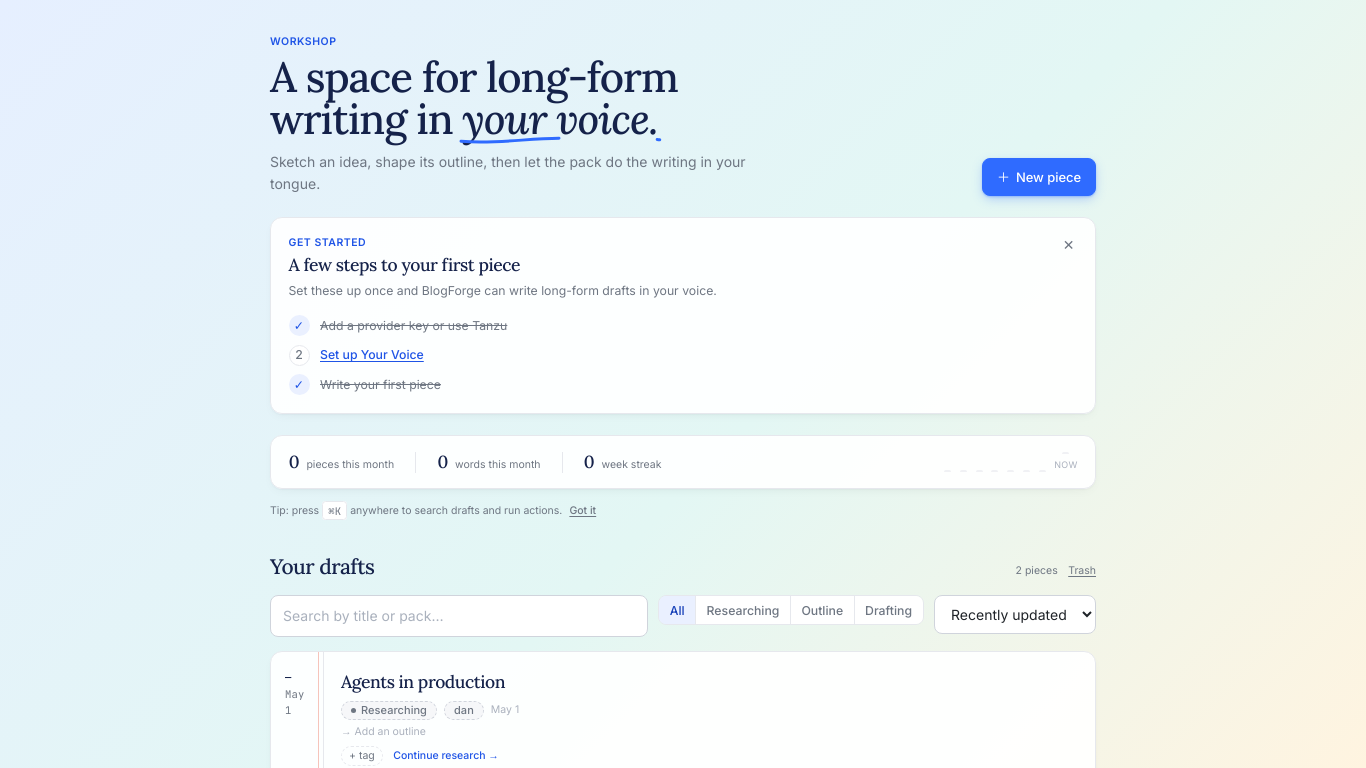
DraftsPage › filters the list by search query
Expected: the heading "Agents in production" is shown, [341,670,505,693]
Type "cast iron" into the search field named "search drafts".
click(459, 616); type("cast iron")  # box [270,595,648,637]
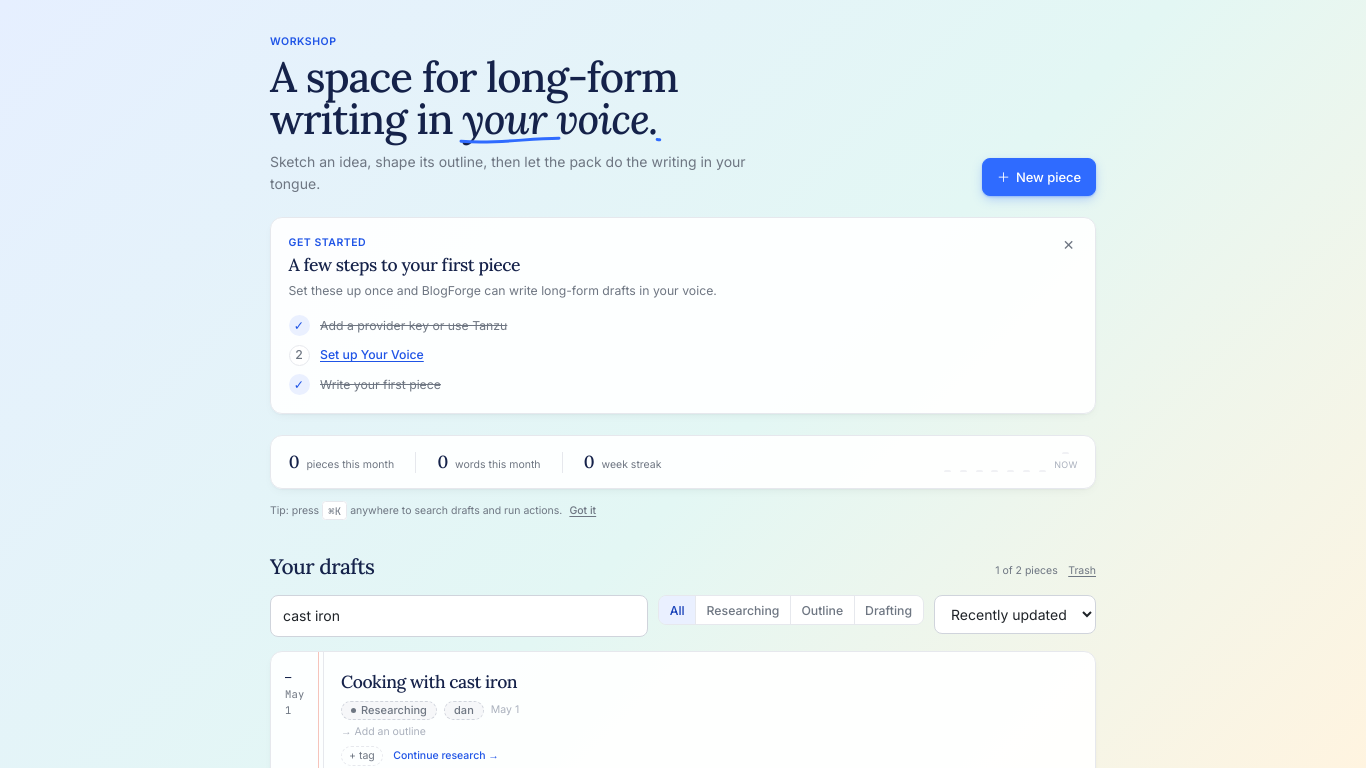
Expected: the heading "Cooking with cast iron" is shown, [341,670,517,693]
Expected: the link "Agents in production" is gone
